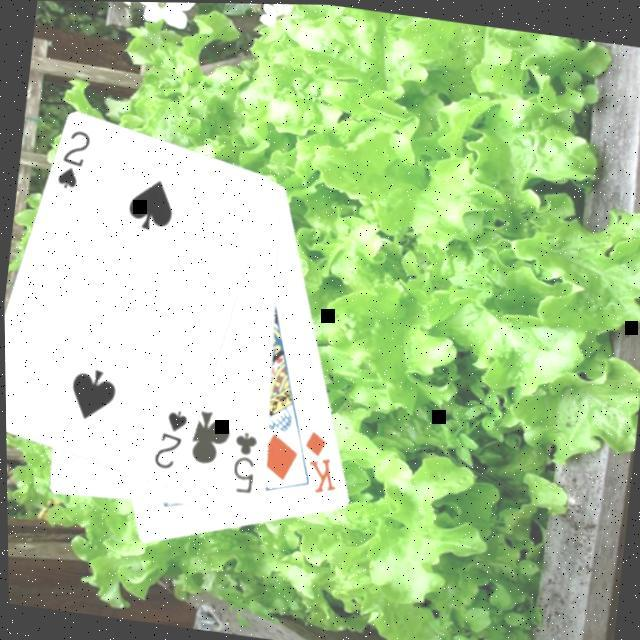2S: (49, 125, 94, 198), (146, 404, 190, 475)
5C: (222, 427, 262, 498)
KD: (292, 424, 344, 499)
